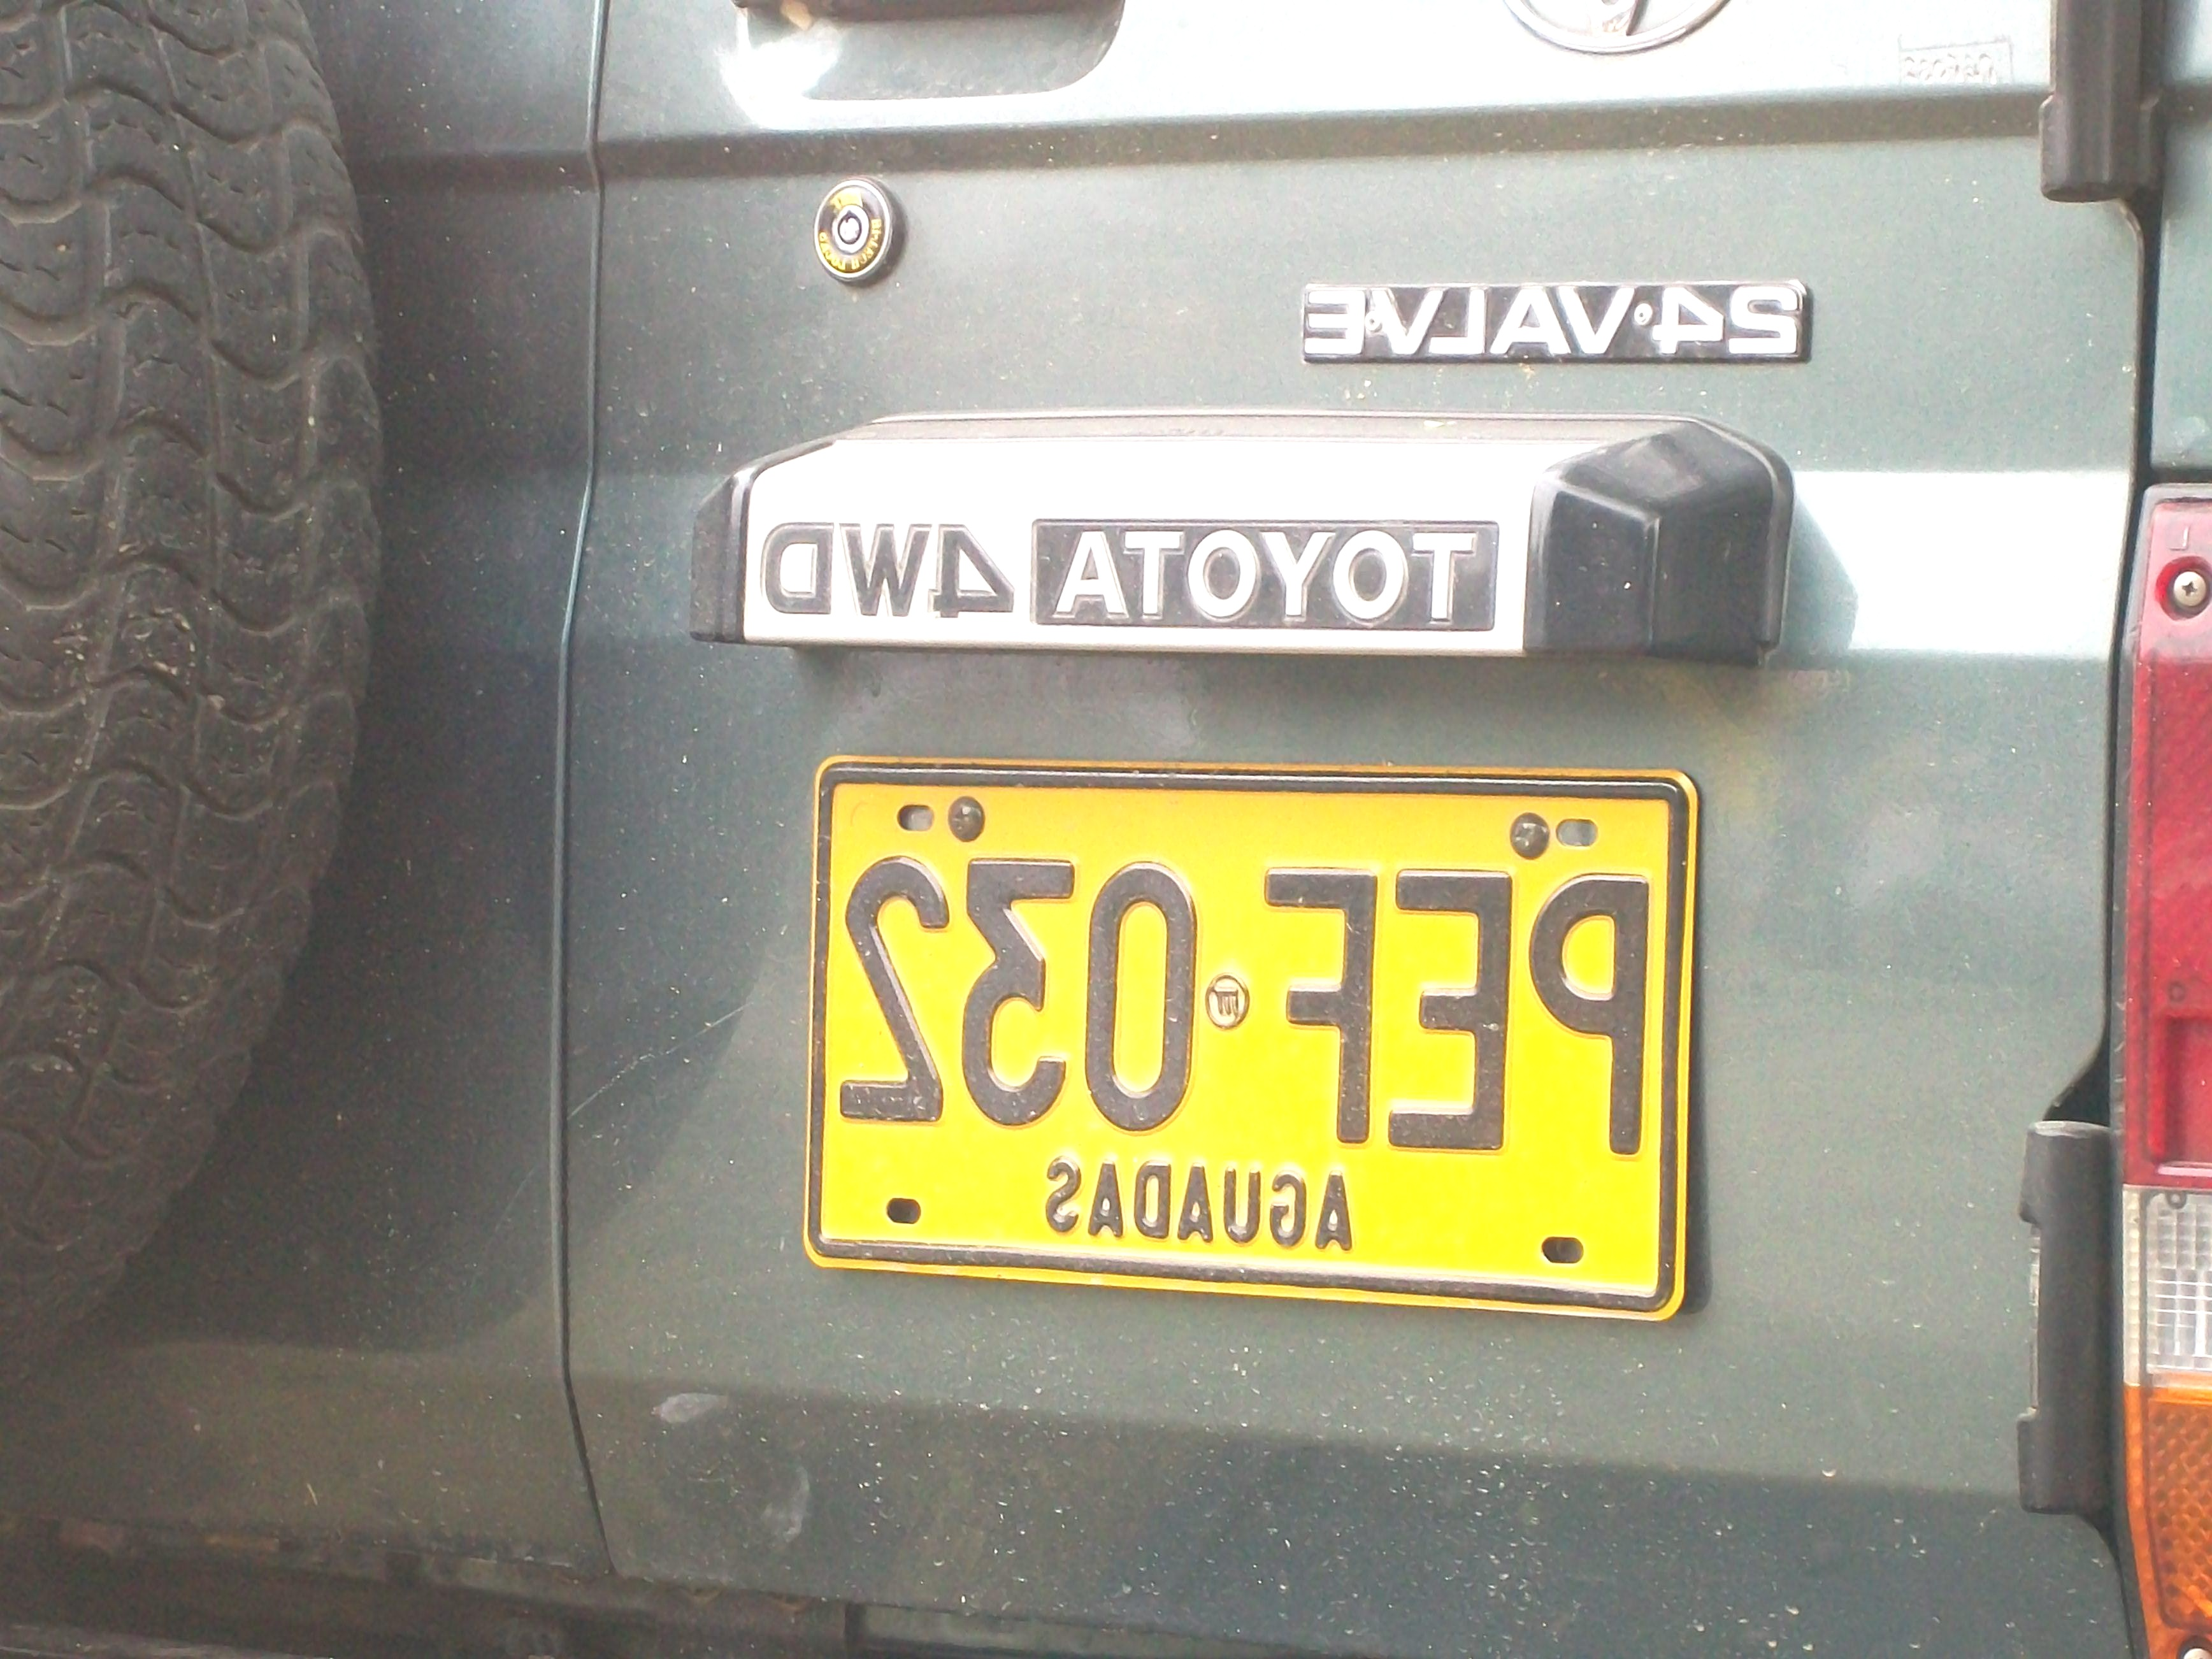placas: (791, 747, 1711, 1333)
